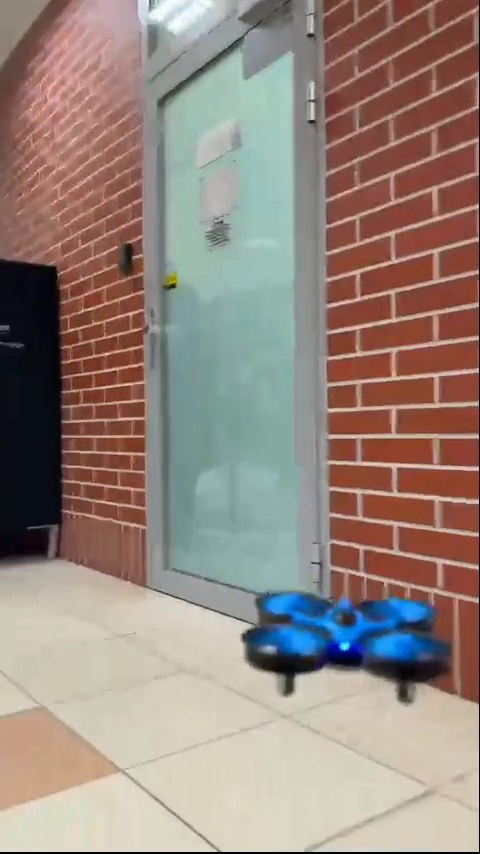drone: (234, 586, 456, 710)
